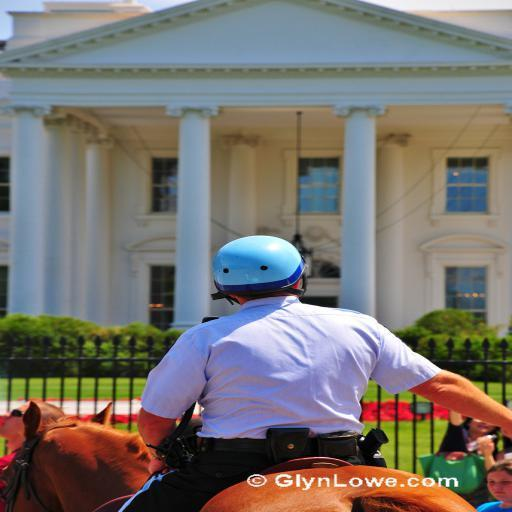horse: (0, 402, 484, 512)
